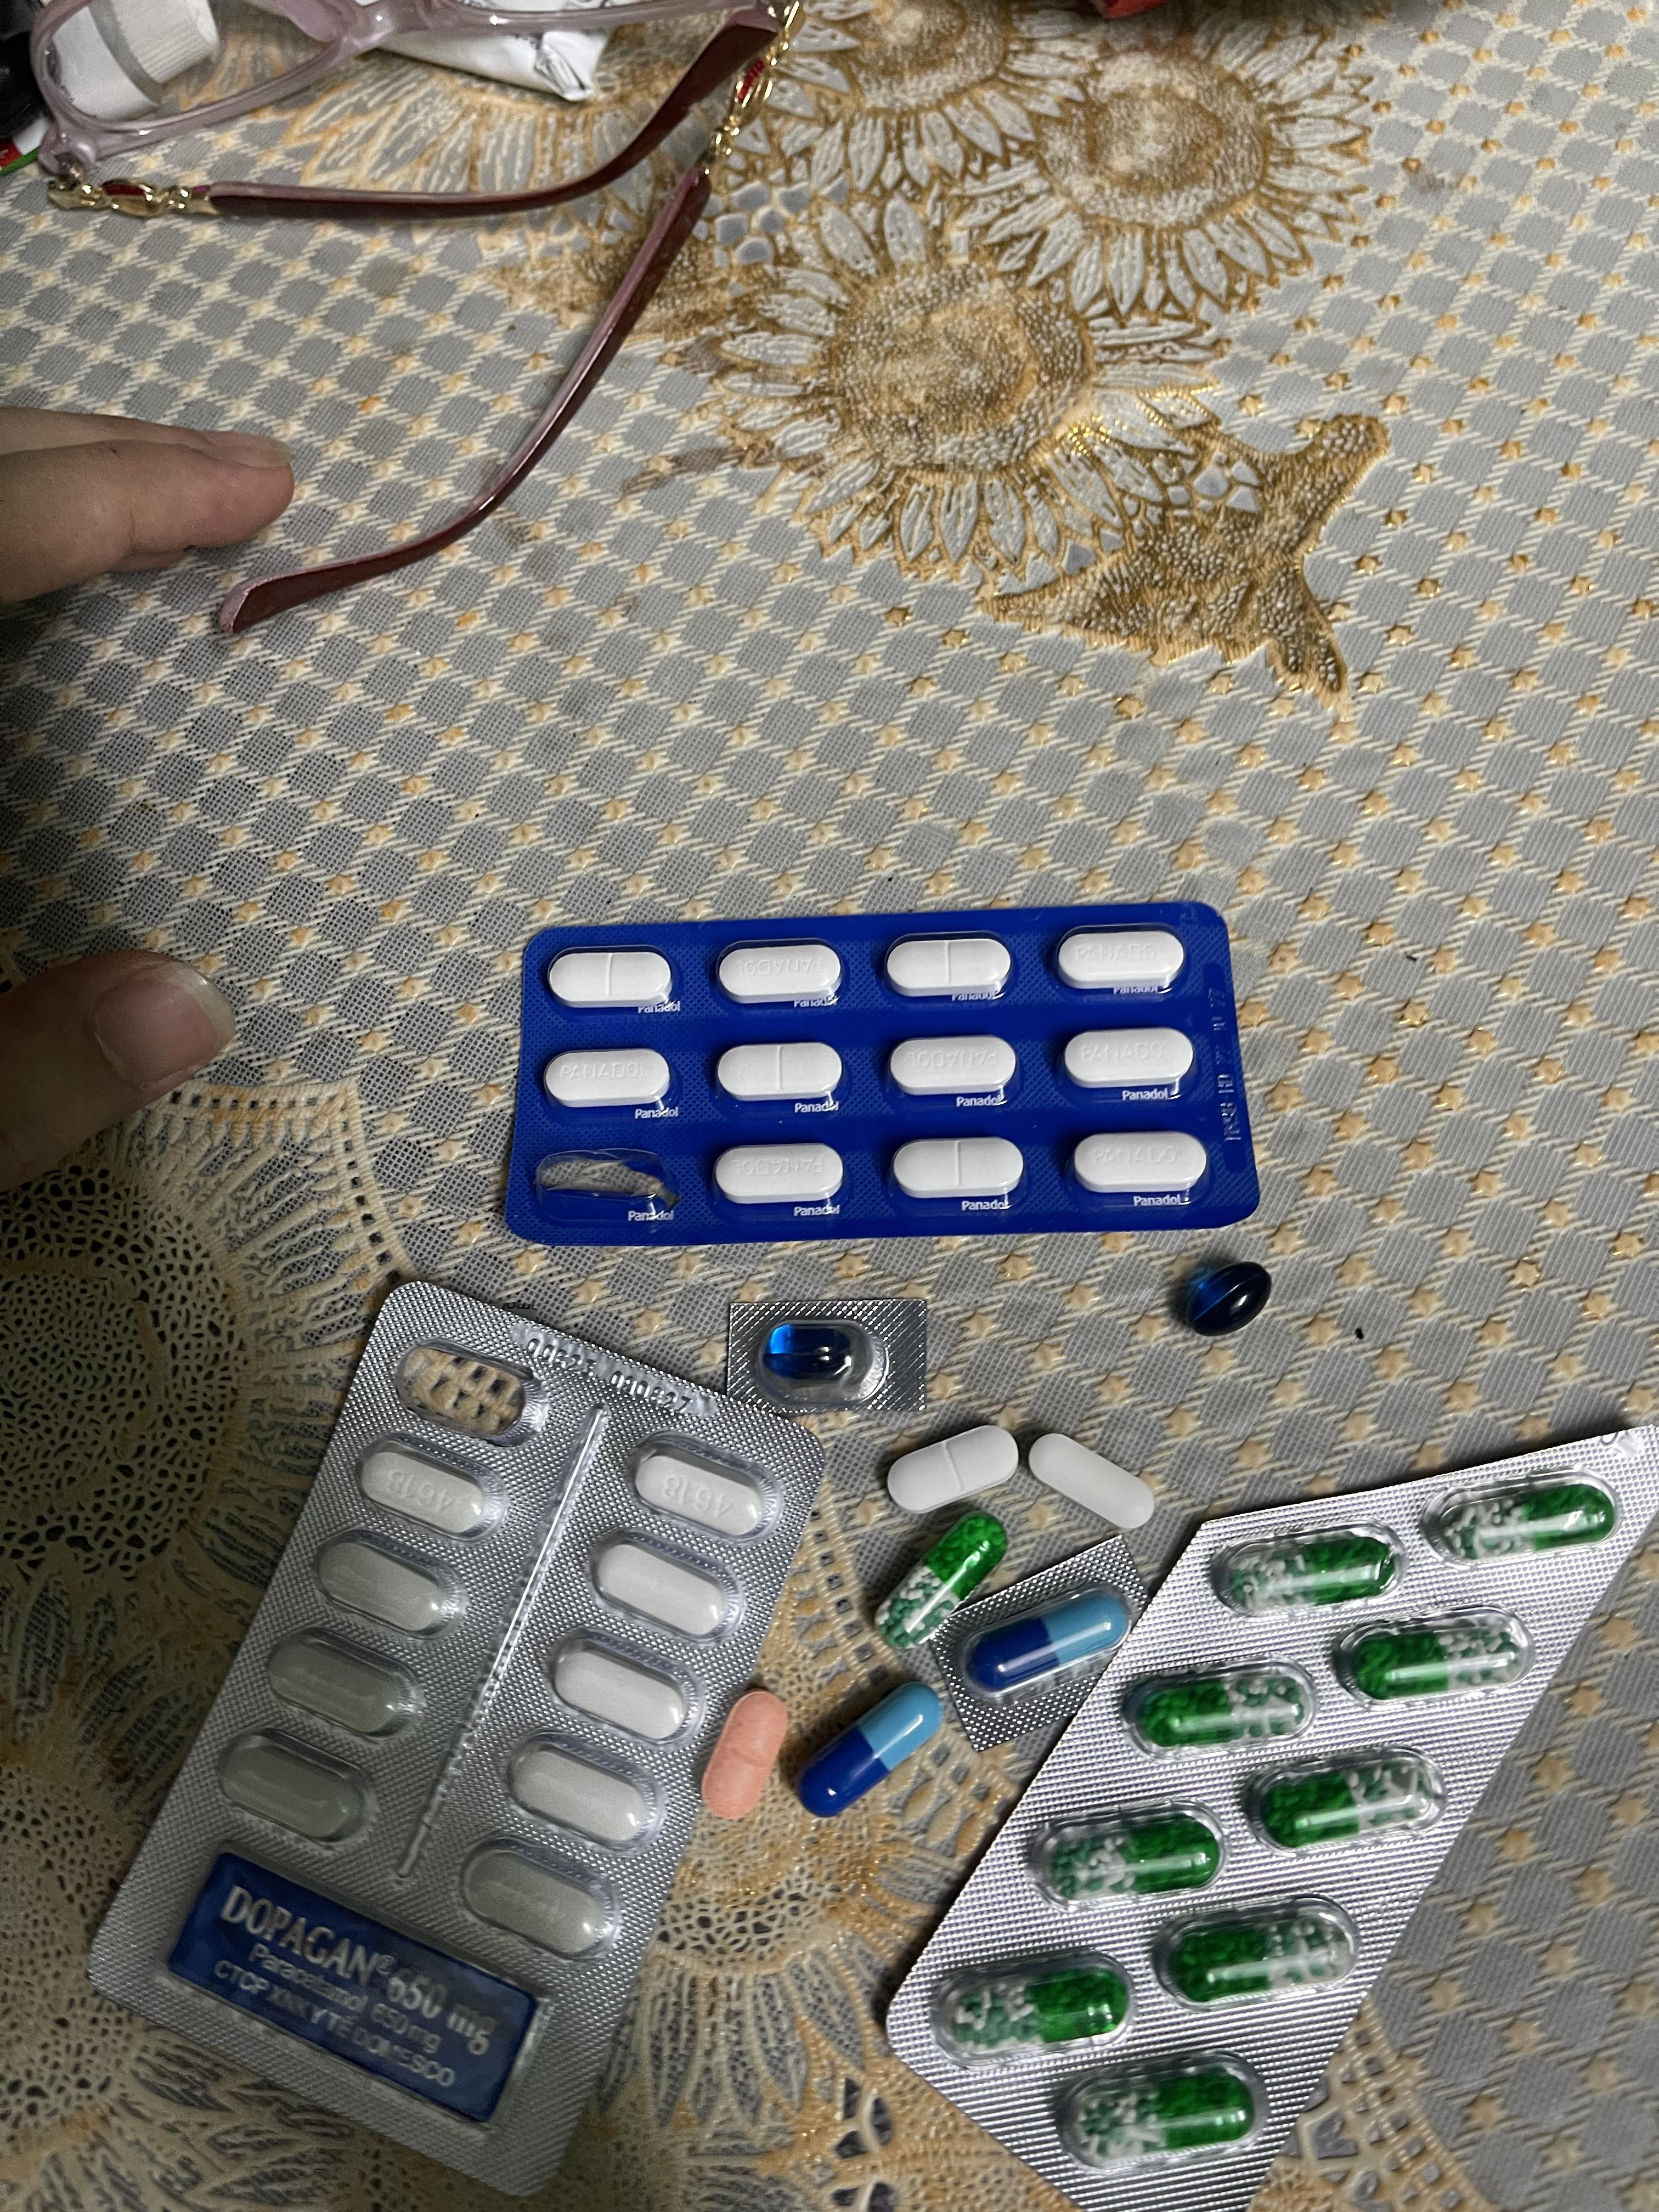Lincomyxin_500mg: (1187, 1259, 1272, 1332), (765, 1324, 856, 1379)
Loratadine_10mg: (699, 1689, 788, 1824)
Paracetamol_350mg: (889, 1426, 1019, 1514), (1054, 927, 1187, 991), (1070, 1130, 1206, 1193), (1063, 1028, 1195, 1090), (716, 941, 847, 1003), (885, 934, 1011, 998), (887, 1035, 1018, 1096), (892, 1137, 1021, 1198), (544, 1049, 669, 1109), (547, 948, 671, 1008), (716, 1042, 843, 1101), (714, 1143, 842, 1202)
Paracetamol_500mg: (218, 1728, 376, 1846), (460, 1841, 619, 1958), (265, 1629, 425, 1740), (509, 1738, 662, 1846), (547, 1630, 697, 1738), (314, 1527, 467, 1630), (356, 1437, 514, 1536), (592, 1534, 739, 1639), (1028, 1432, 1155, 1531), (636, 1451, 772, 1536)
Paracetamol_650mg: (1065, 2055, 1260, 2172), (932, 1951, 1122, 2064), (1159, 1902, 1352, 2006), (1248, 1750, 1443, 1851), (875, 1512, 1011, 1648), (1039, 1803, 1218, 1904), (1425, 1474, 1624, 1564), (1337, 1615, 1530, 1703), (1131, 1658, 1307, 1752), (1220, 1524, 1401, 1615)
pill: (798, 1681, 945, 1818), (962, 1588, 1131, 1700)
